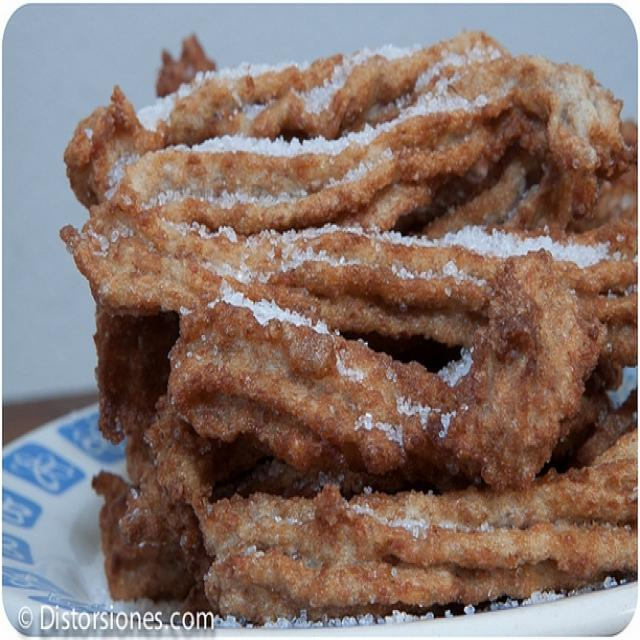炸货点心: (47, 24, 621, 610)
